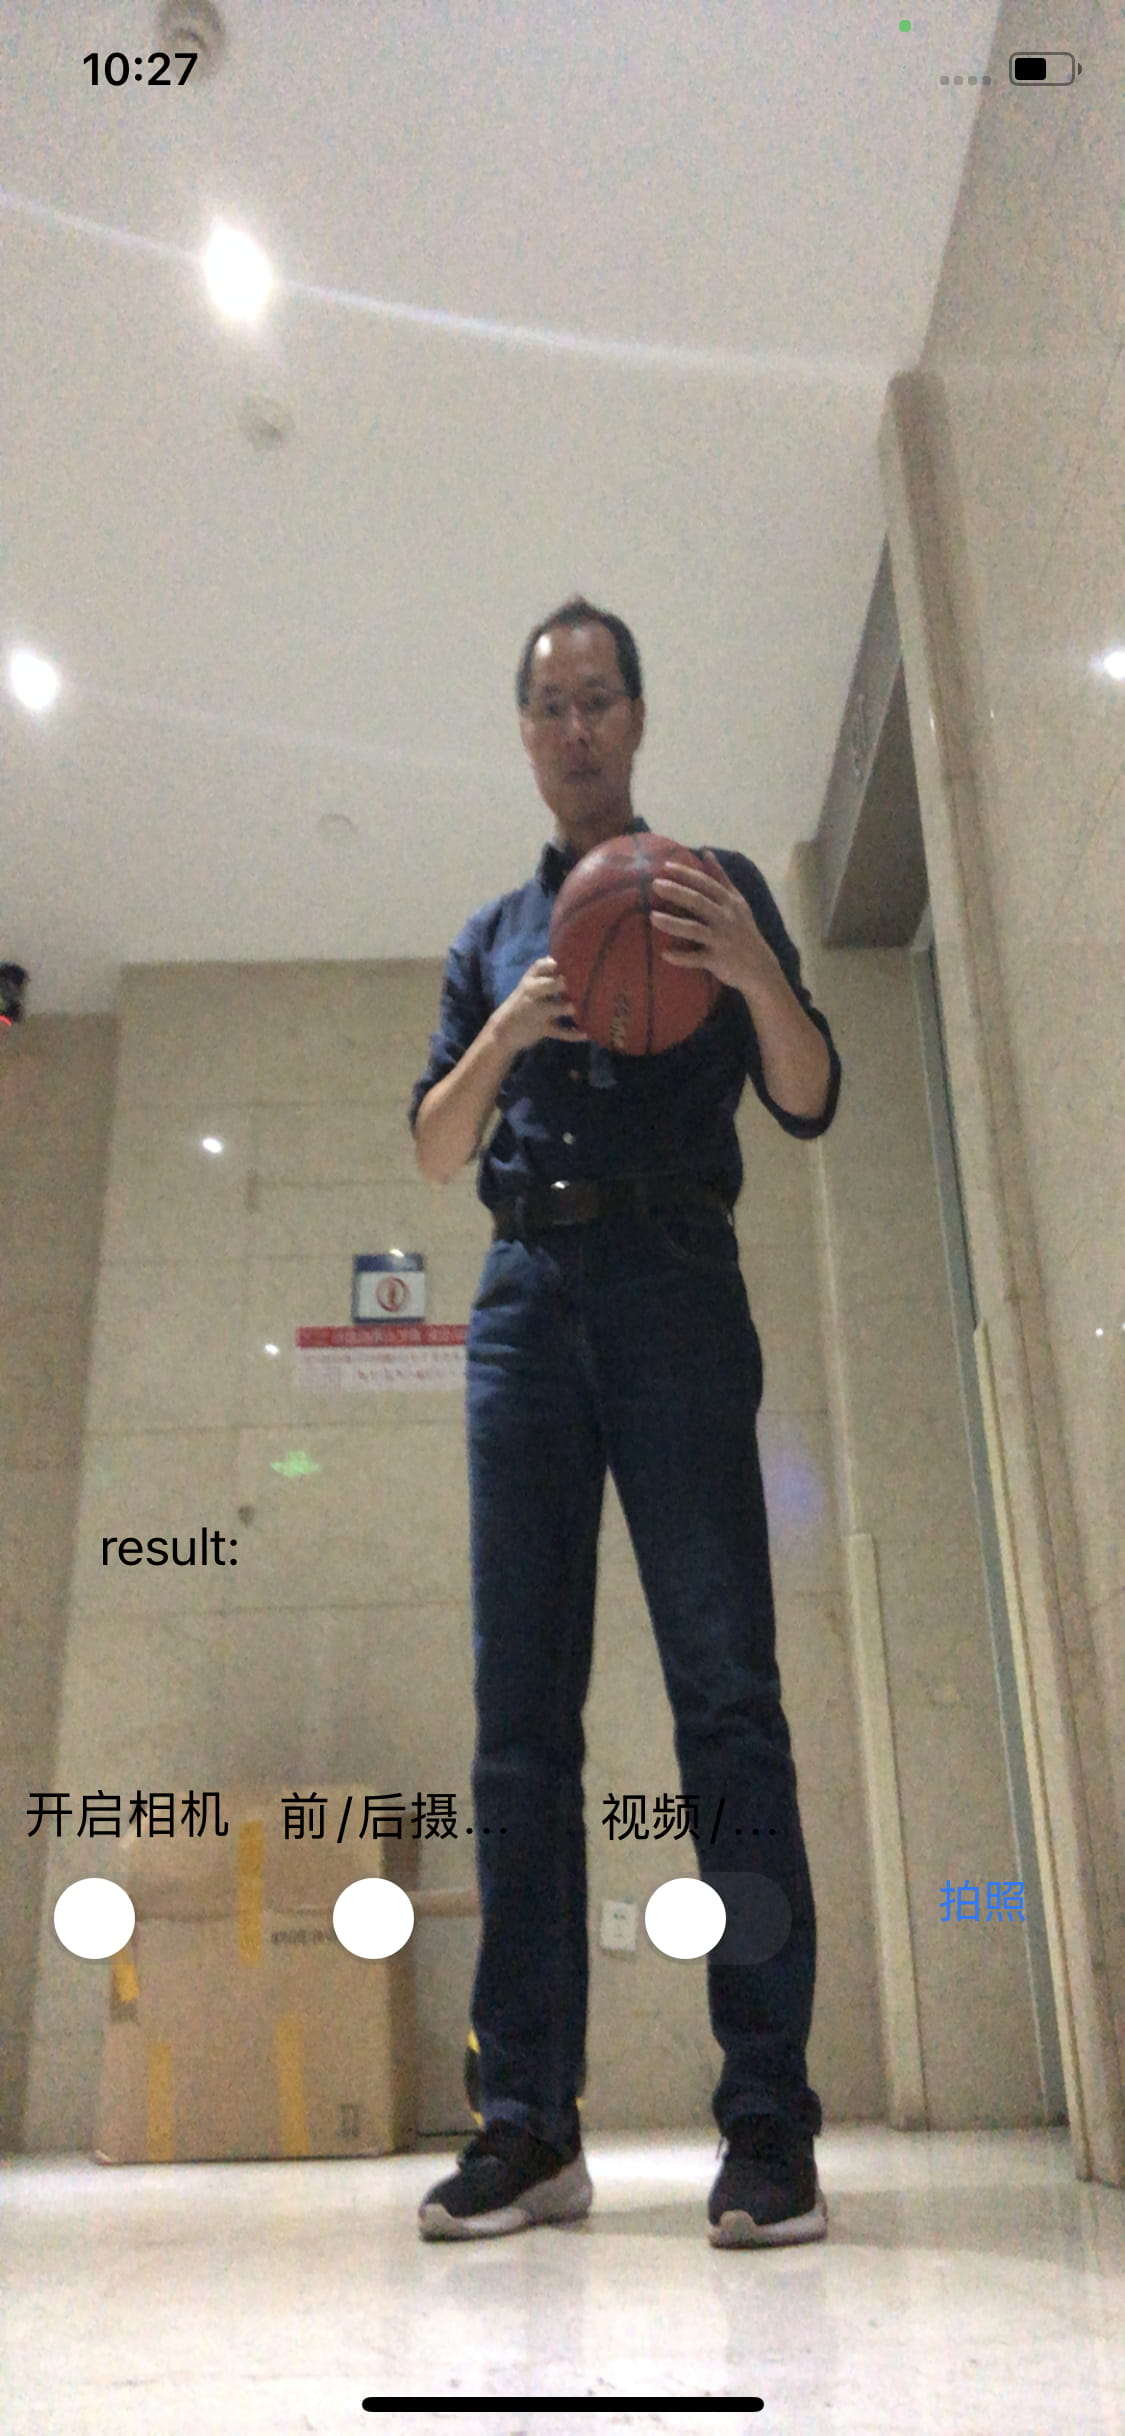ball: (552, 833, 730, 1052)
